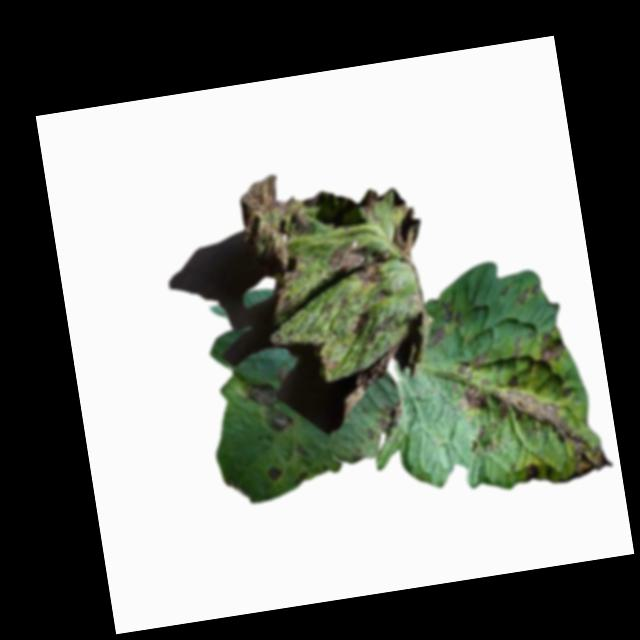Early_blight: (455, 364, 607, 496), (236, 170, 325, 318), (339, 341, 411, 414), (322, 237, 393, 293), (243, 379, 291, 435), (385, 204, 428, 256), (425, 302, 462, 348), (536, 328, 568, 364), (357, 185, 383, 226), (452, 352, 490, 379), (348, 309, 372, 337), (376, 313, 398, 335), (265, 465, 283, 483)
